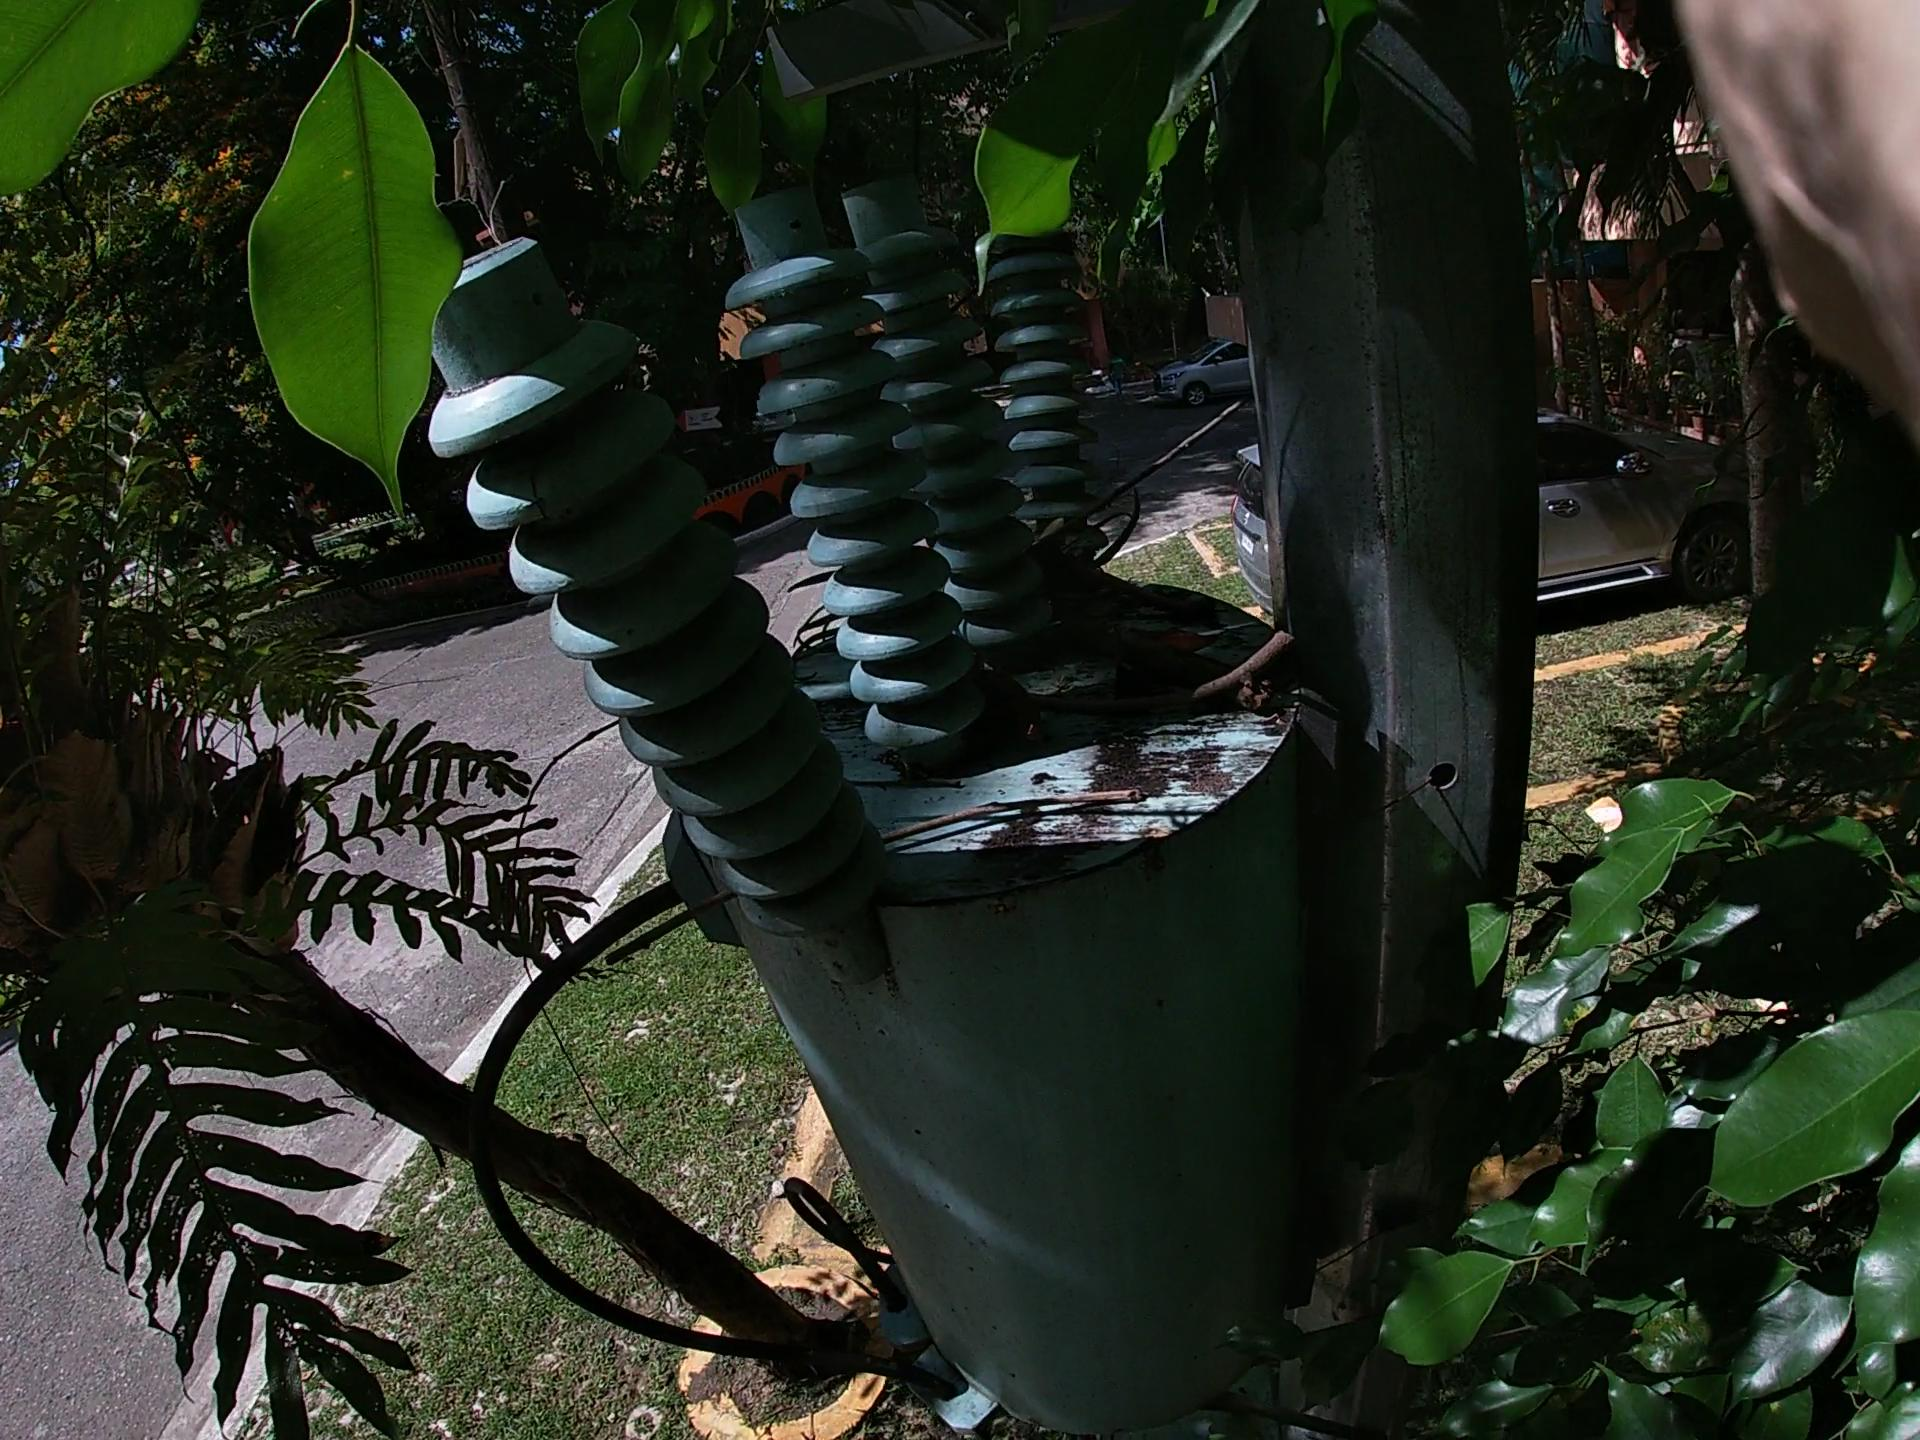branch with leaves: (1052, 545, 1327, 756)
tree branch: (314, 411, 1237, 1077), (617, 791, 1154, 970), (996, 640, 1398, 773)
